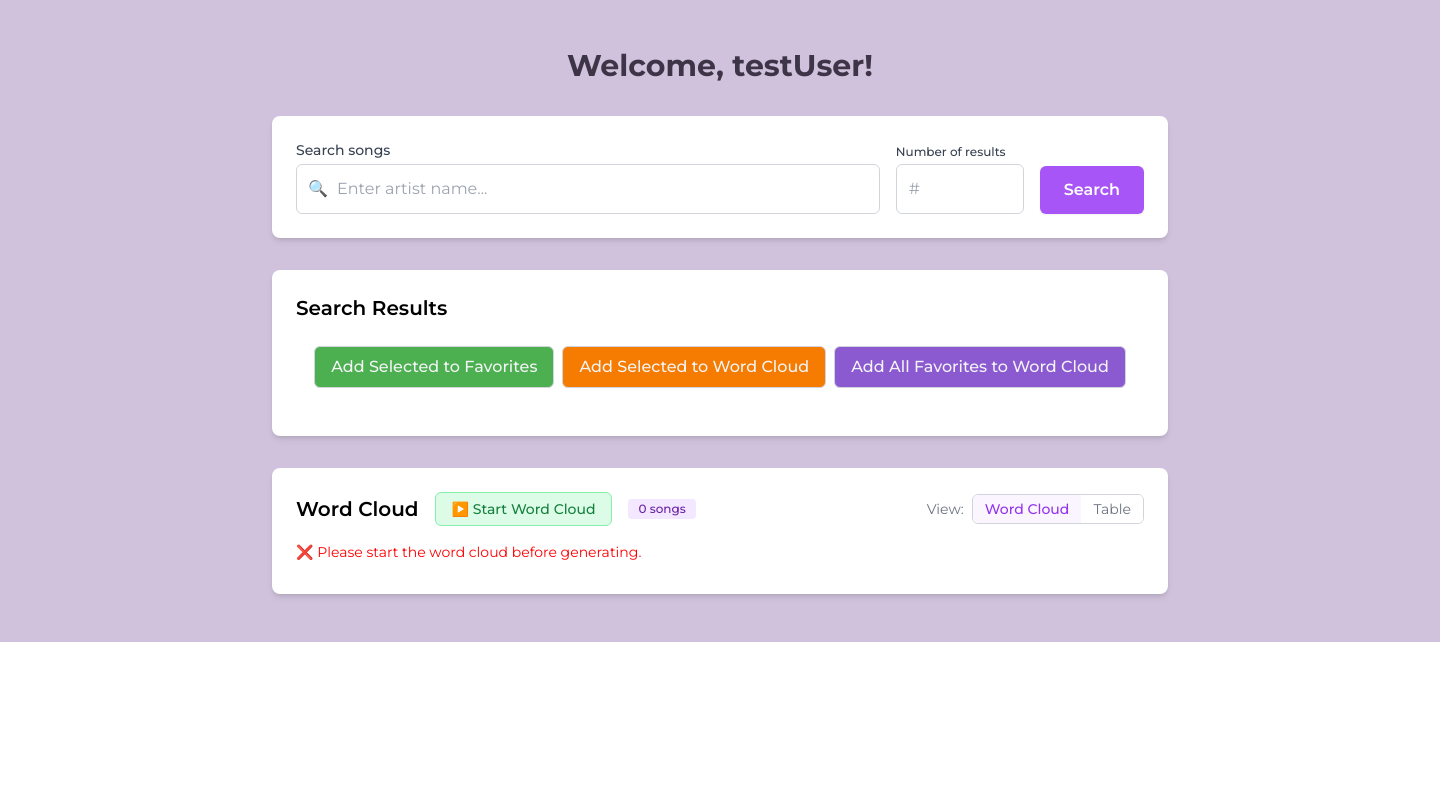
Dashboard › displays error when artist search fails
The image size is (1440, 810).
In the search field with placeholder "Enter artist name...": (588, 189) [296,164,880,214], type "ErrorCase"
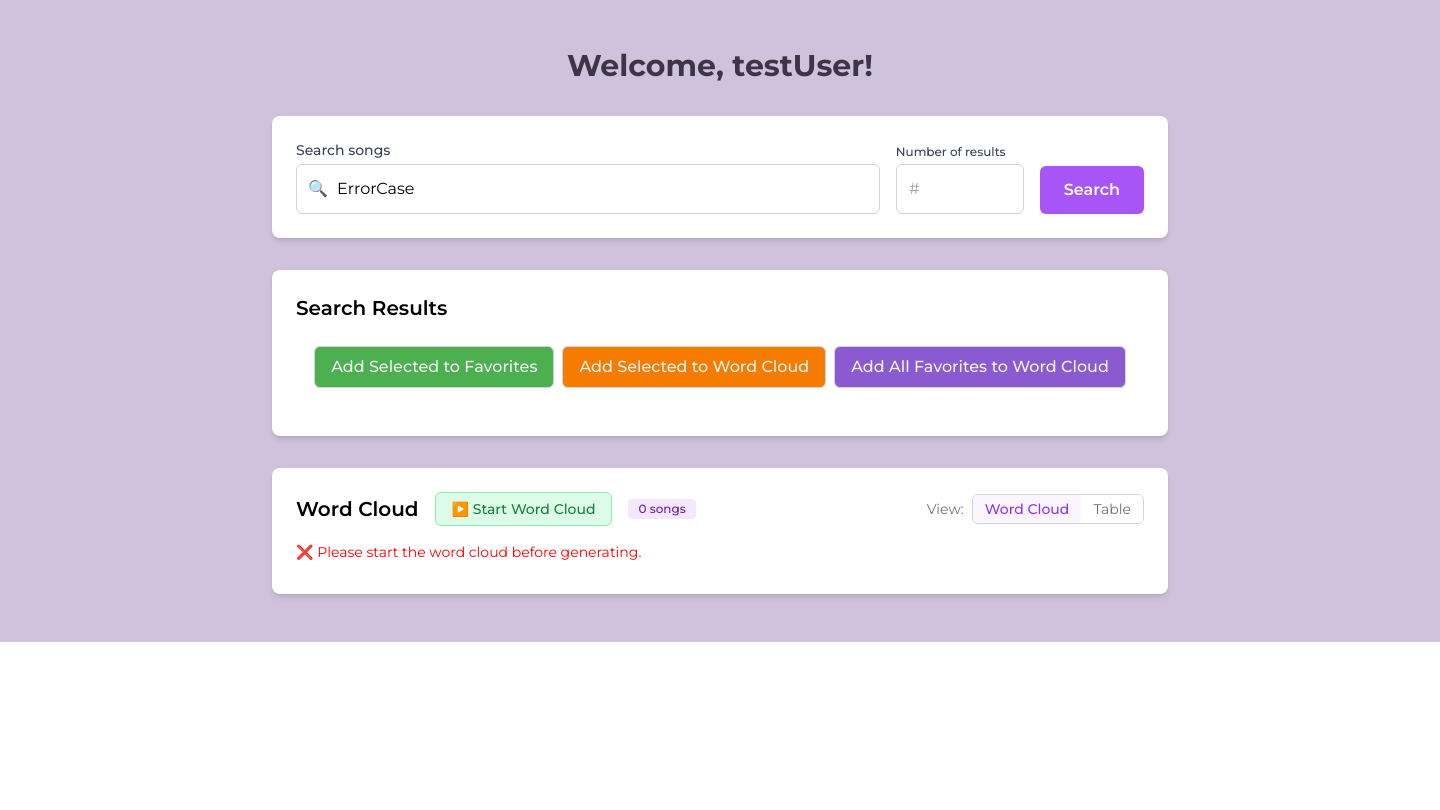
In the number field with placeholder "#": (960, 189) [896,164,1024,214], type "1"
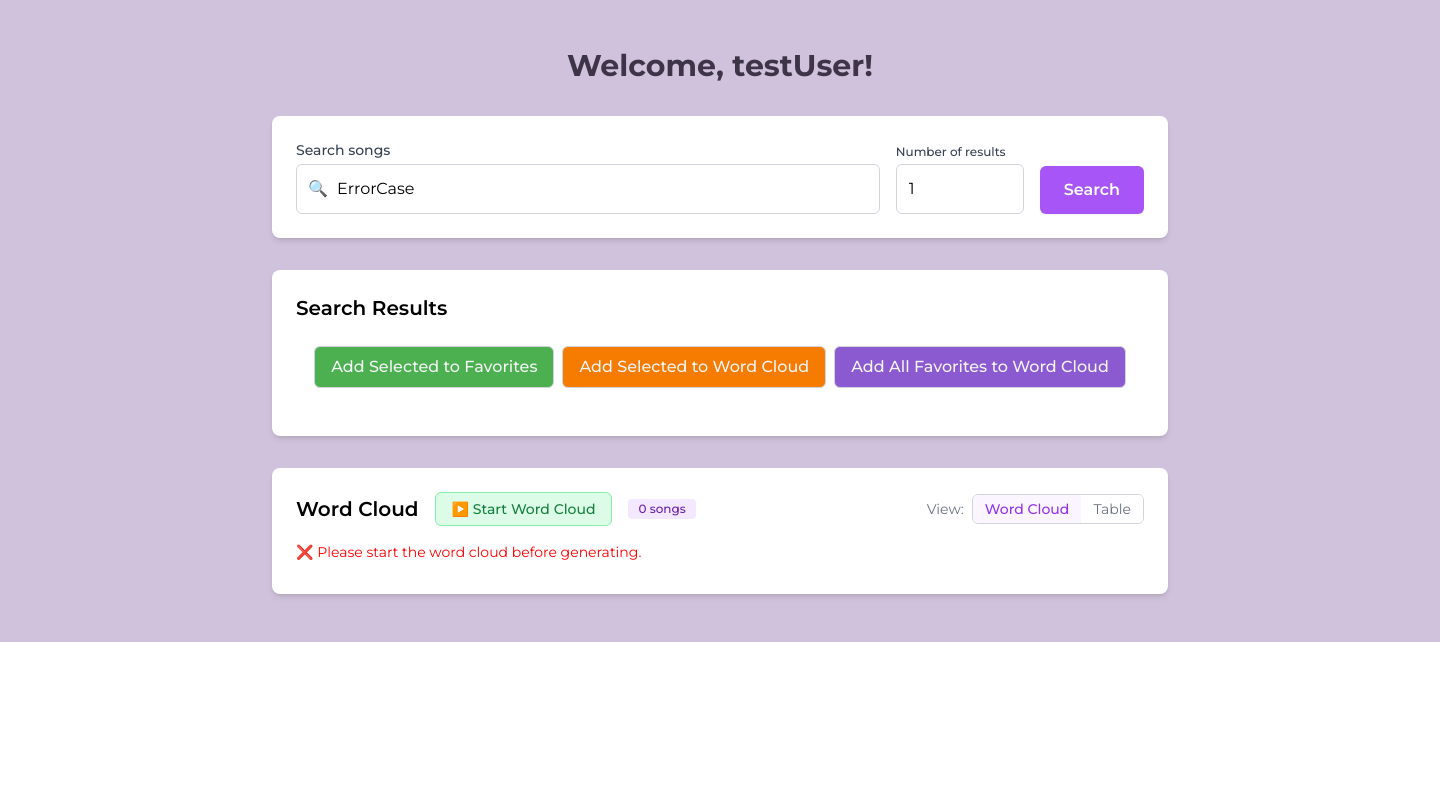
Click the button "Search": (1092, 190) [1040,166,1144,214]
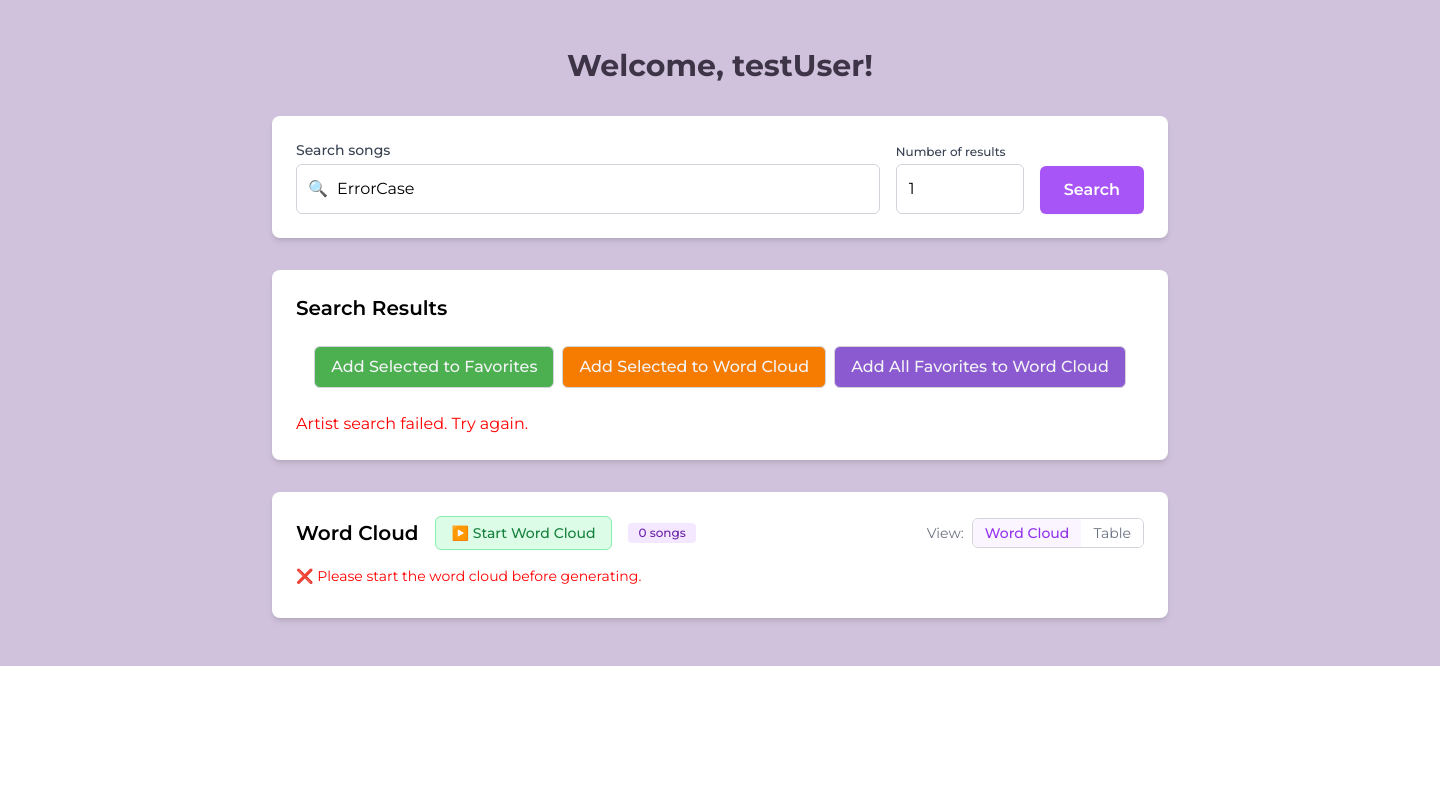
Expected: the text "Artist search failed. Try again." is shown, [296,414,528,433]
